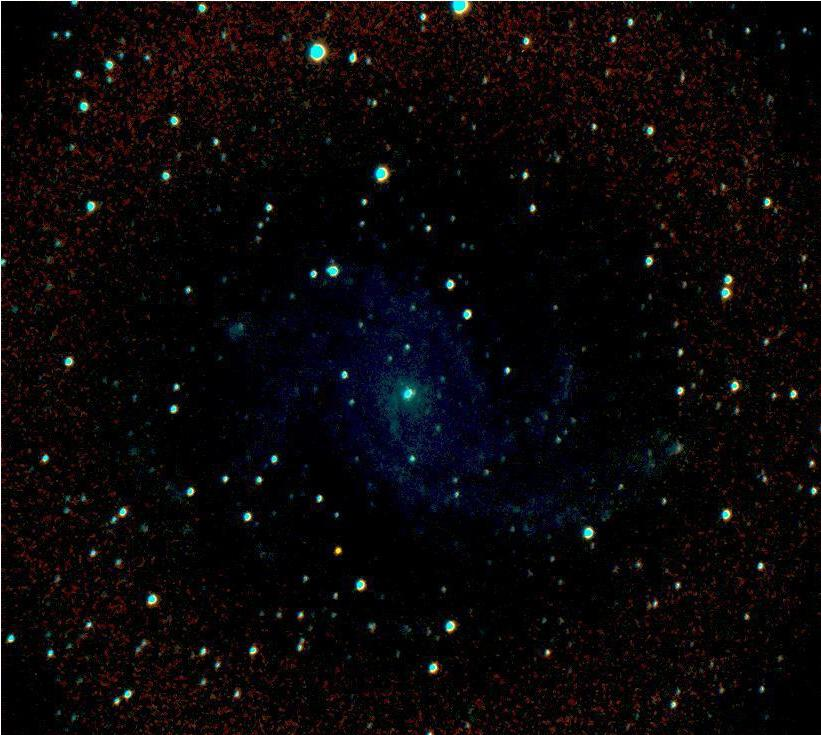star: (322, 536, 352, 566)
